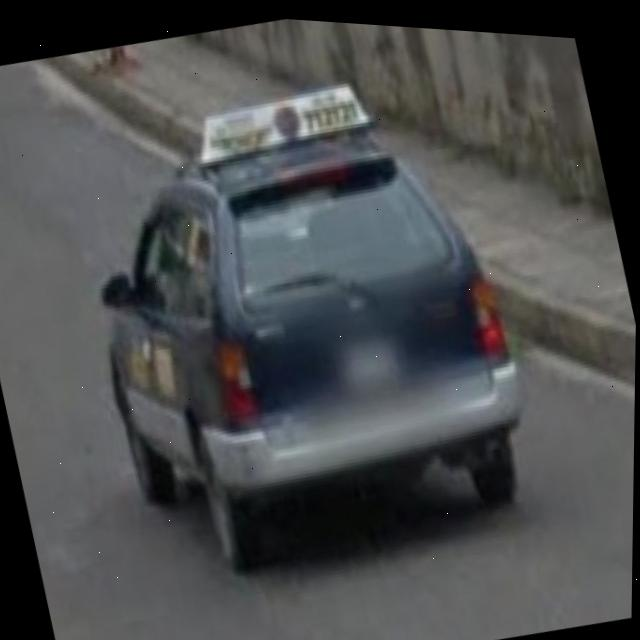vehicle: (31, 10, 576, 638)
